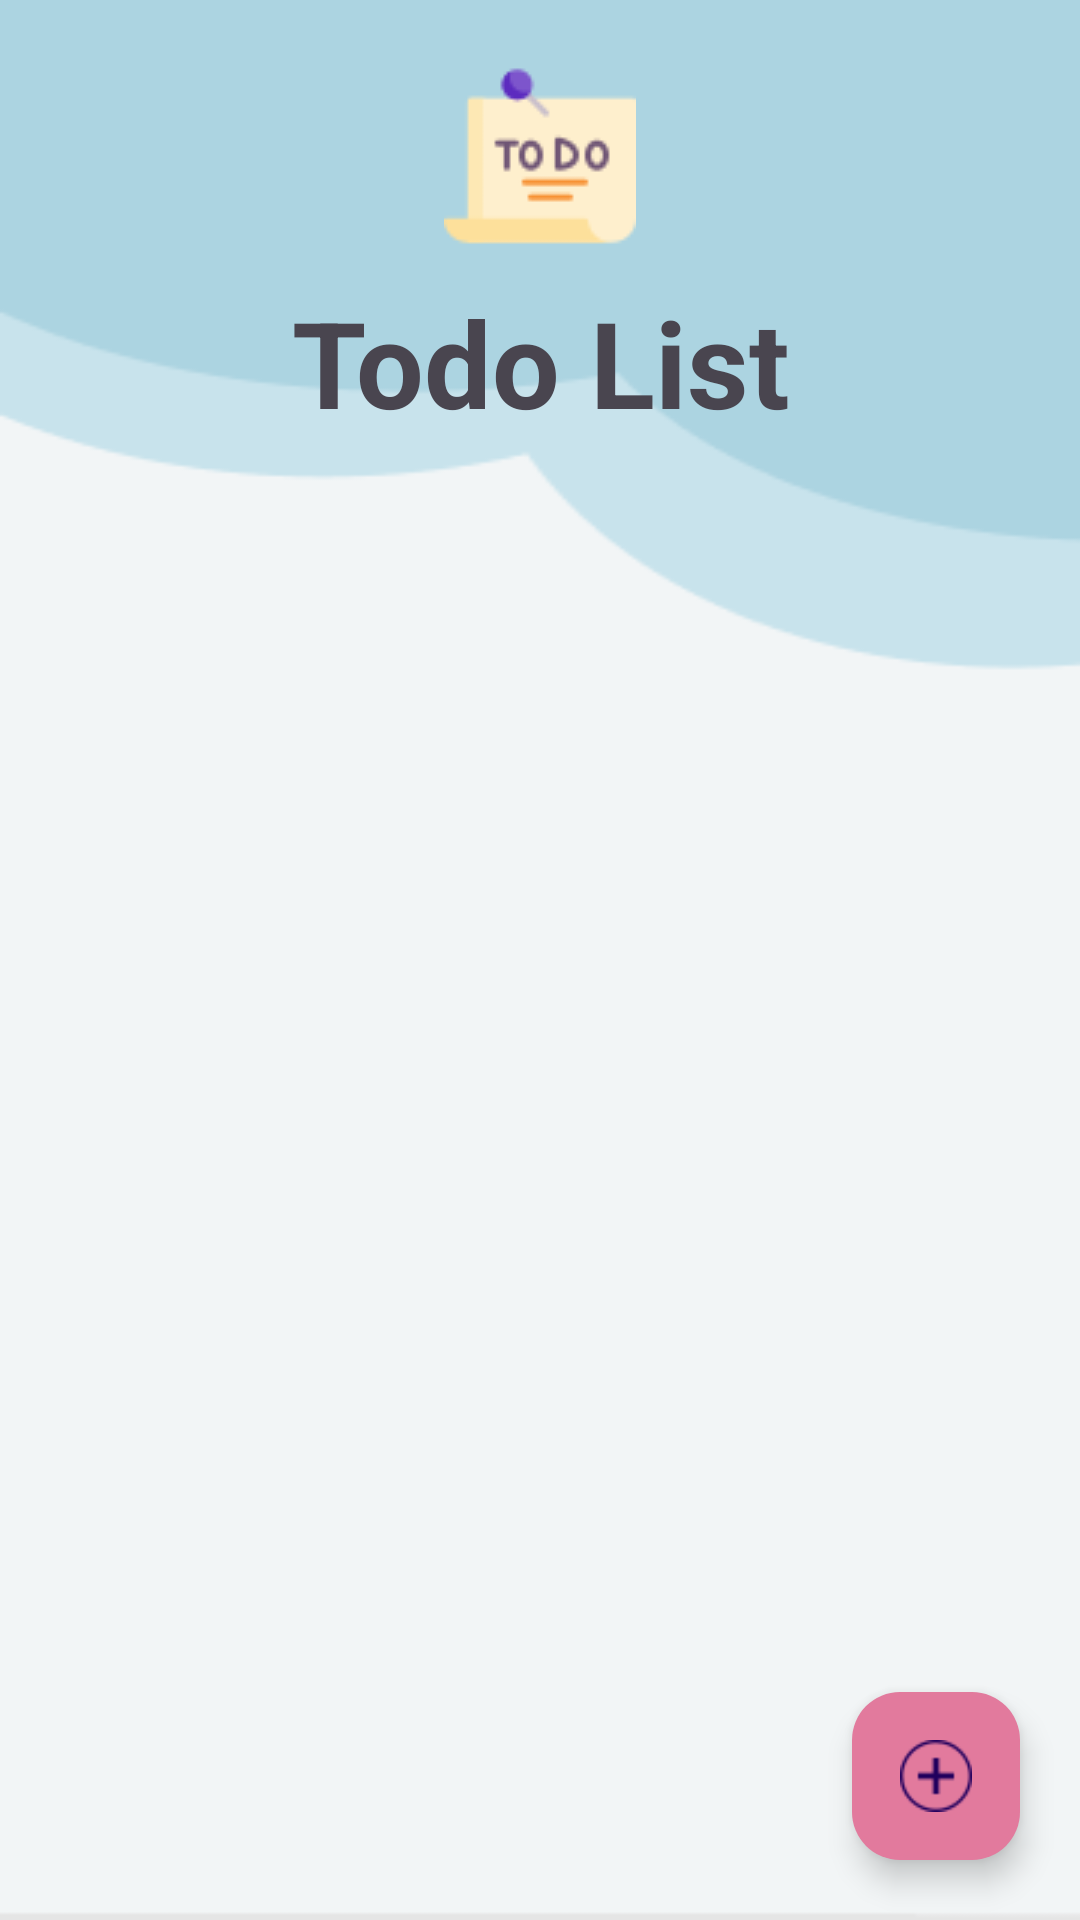

Icon bounding boxes for this 1080×1920 phone screenshot, format (x1, y1, x2, y2):
Add Todo: (852, 1692, 1020, 1860)
